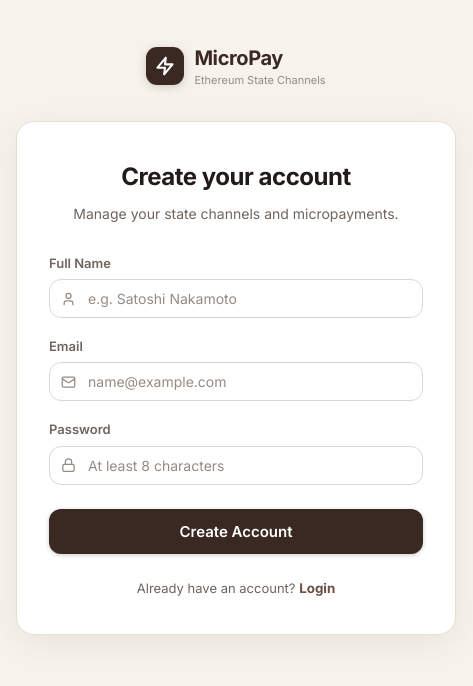
Test: Auth Pages › SignUpPage validates required Full Name
This screenshot has width=473, height=686.
Click the button "Create Account": (236, 531) top-left (49, 509), bottom-right (423, 554)
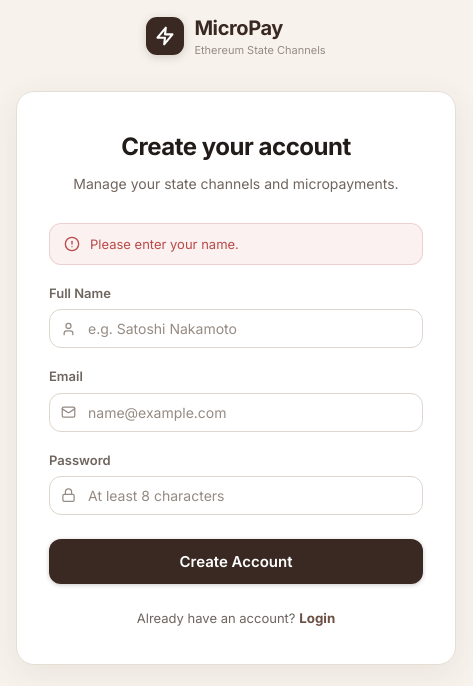
Expected: the text "Please enter your name." is shown, top-left (90, 234), bottom-right (239, 254)
